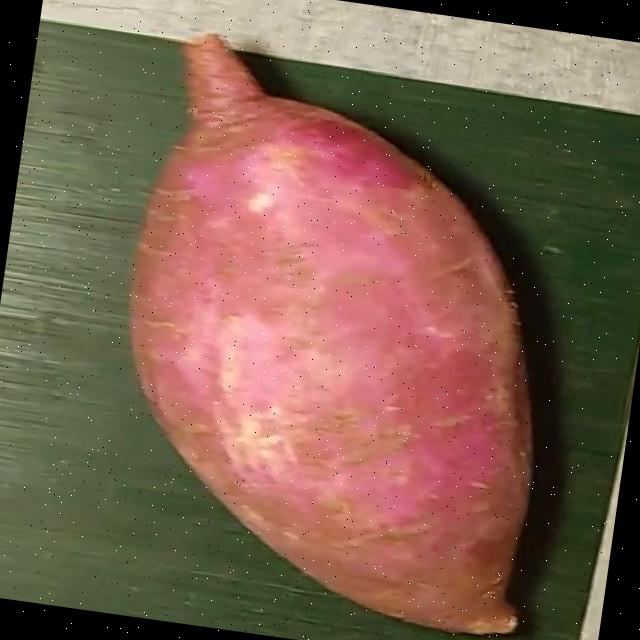Sweet Potato: (128, 29, 538, 635)
